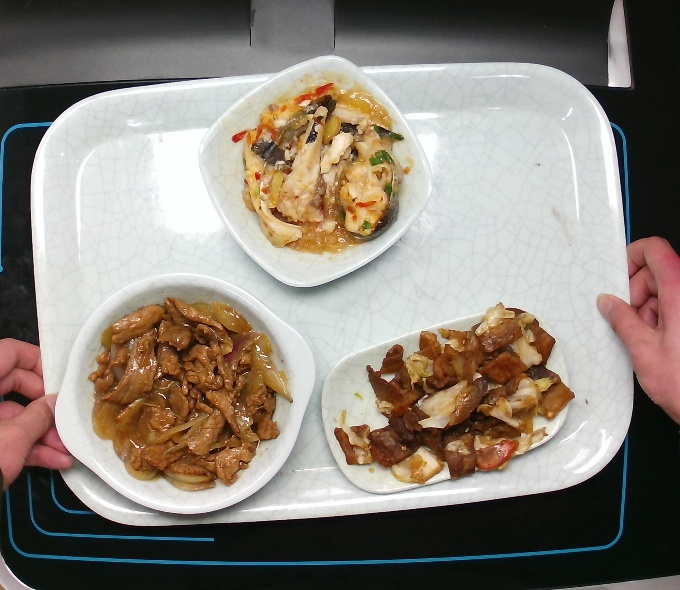wcq-DuoJiaoYuKuai: (225, 67, 412, 257)
wcq-PaoCaiRouPian: (317, 299, 579, 488)
wcq-YangCongRouPian: (84, 283, 296, 498)
